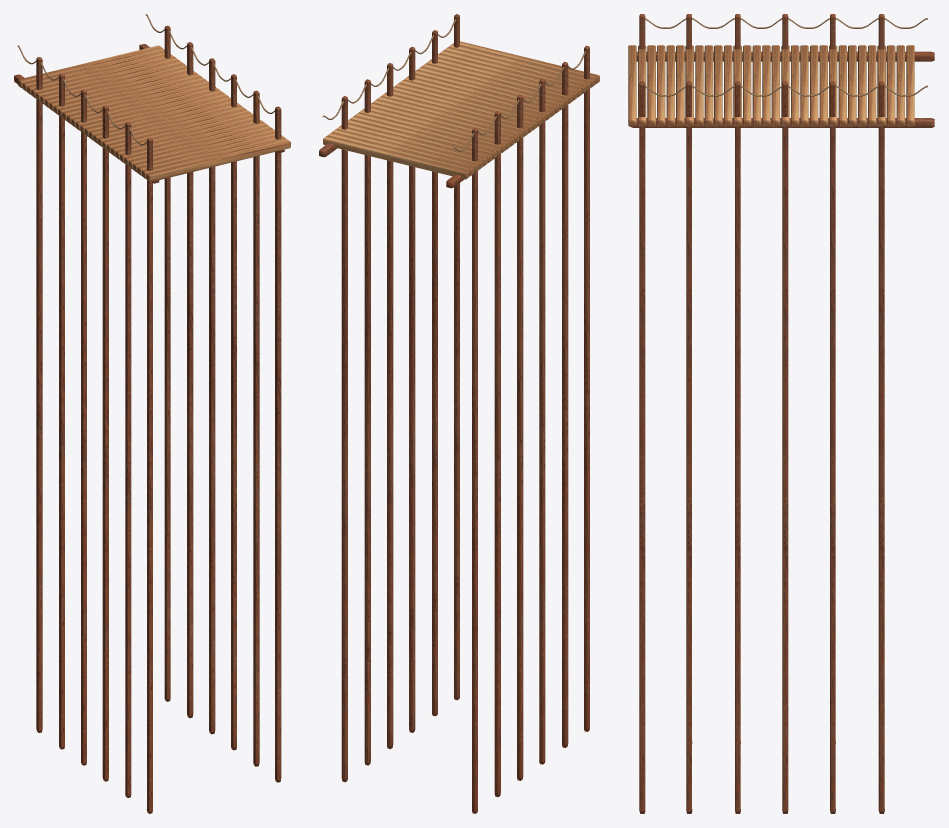
Rendered from Puerto_Esperanza.glb.
3 views of the same model, side by side, from view 1: azimuth 30°, elevation 25°; view 2: azimuth 150°, elevation 25°; view 3: azimuth 270°, elevation 25° (orthographic). The views are drawn at different scales.
Visible parts, largest first — view 1: Muelle; view 2: Muelle; view 3: Muelle.
Boxes of the visible parts, <box> form: Muelle: <box>14,14,290,813</box>; Muelle: <box>319,14,599,813</box>; Muelle: <box>628,14,934,813</box>.
Bounding box in the file's own units: 4.83 × 21.94 × 8.35.
Materials: 1 (1 with a texture image).
